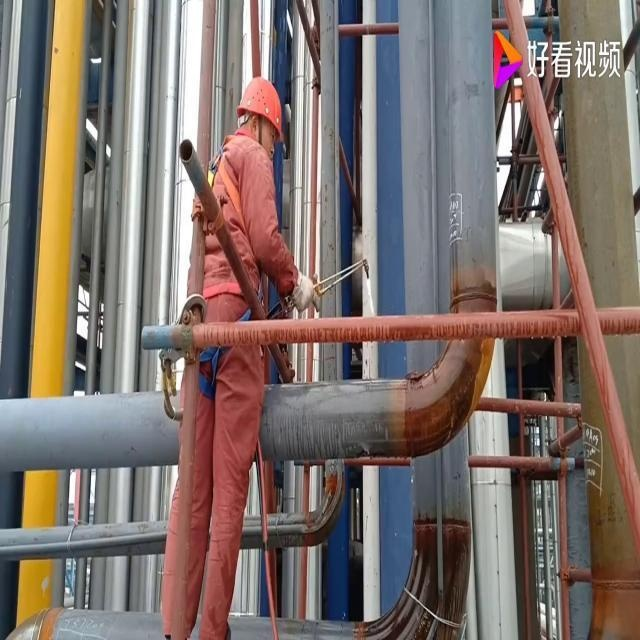Arnes_seguridad: (203, 123, 275, 309)
